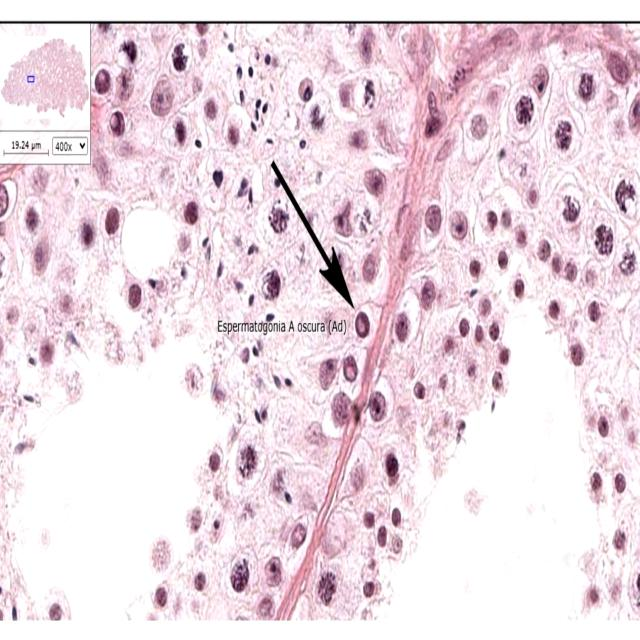Clase 1: (267, 161, 357, 307), (12, 440, 36, 455), (12, 440, 27, 456), (11, 605, 17, 620), (23, 395, 33, 402), (27, 75, 34, 83)
Clase 10: (410, 289, 603, 564), (388, 417, 471, 526), (322, 456, 373, 558), (532, 107, 587, 195), (318, 477, 369, 562), (350, 12, 434, 53), (422, 359, 482, 408), (512, 259, 581, 301), (510, 260, 580, 300), (546, 184, 585, 233), (507, 86, 540, 143), (0, 237, 19, 325), (146, 74, 180, 120), (610, 168, 640, 220), (601, 47, 636, 88), (37, 585, 72, 624), (349, 73, 383, 113), (86, 146, 117, 188), (463, 114, 490, 162), (435, 334, 457, 390), (607, 177, 640, 214), (87, 147, 115, 189), (474, 199, 504, 237), (524, 62, 555, 98), (436, 339, 457, 392), (191, 40, 210, 94), (30, 235, 53, 277), (149, 537, 173, 573), (228, 557, 251, 593), (421, 109, 446, 141), (167, 41, 192, 73), (331, 391, 353, 426), (28, 164, 52, 196), (448, 210, 471, 242), (64, 369, 85, 404), (332, 203, 353, 238), (113, 70, 135, 103), (266, 205, 290, 235), (270, 467, 290, 503), (0, 179, 17, 221), (303, 420, 328, 448), (287, 521, 310, 551), (616, 248, 639, 278), (36, 337, 58, 368), (553, 120, 575, 151), (237, 444, 257, 478), (316, 571, 336, 605), (308, 99, 328, 131), (356, 77, 376, 109), (190, 32, 214, 58), (364, 169, 386, 197), (594, 224, 613, 256), (318, 358, 337, 390), (618, 403, 634, 441), (185, 364, 203, 397), (360, 253, 379, 284), (264, 556, 283, 587), (561, 195, 582, 223), (419, 276, 436, 310), (23, 204, 42, 234), (424, 204, 443, 234), (262, 269, 281, 299), (208, 513, 227, 542), (369, 390, 386, 422), (92, 68, 112, 95), (577, 72, 595, 102), (208, 514, 227, 542), (349, 463, 366, 493), (104, 206, 121, 236), (347, 128, 369, 151), (628, 92, 640, 134), (516, 96, 533, 125), (108, 109, 126, 136), (3, 303, 23, 327), (354, 310, 371, 338), (470, 113, 488, 139), (126, 282, 143, 309), (535, 238, 553, 263), (569, 341, 586, 367), (175, 231, 194, 254), (257, 595, 275, 619), (187, 507, 204, 532), (80, 220, 95, 248), (343, 354, 358, 382), (477, 294, 494, 318), (152, 585, 169, 609), (225, 122, 241, 147), (173, 118, 187, 146), (120, 40, 137, 63), (298, 77, 313, 102), (339, 82, 353, 108), (183, 201, 198, 225), (385, 453, 399, 478), (203, 98, 218, 120), (375, 524, 389, 547), (59, 293, 74, 314), (174, 119, 186, 145), (487, 320, 501, 342), (587, 300, 601, 322), (612, 529, 626, 551), (485, 209, 498, 232), (515, 225, 528, 248), (613, 472, 627, 493), (193, 570, 207, 591), (496, 249, 510, 270), (586, 585, 600, 605), (390, 535, 404, 555), (551, 254, 564, 275), (458, 317, 471, 338), (208, 451, 221, 472), (526, 186, 539, 207), (48, 603, 63, 621), (442, 336, 456, 355), (469, 258, 481, 279), (590, 471, 602, 492), (39, 528, 51, 549), (491, 371, 503, 391), (500, 209, 512, 228), (548, 299, 560, 318), (212, 169, 223, 188), (598, 416, 608, 436), (474, 324, 484, 344), (363, 511, 374, 529), (499, 347, 510, 365), (363, 581, 375, 597), (97, 23, 112, 35), (494, 258, 502, 271), (0, 338, 4, 357)
Clase 7: (147, 198, 403, 621), (215, 253, 299, 419), (383, 5, 479, 127), (410, 325, 503, 415), (0, 530, 72, 620), (200, 372, 271, 432), (165, 18, 236, 72), (347, 180, 415, 235), (403, 137, 451, 213), (346, 13, 435, 53), (205, 378, 272, 425), (418, 60, 467, 124), (411, 360, 480, 400), (10, 356, 36, 455), (335, 204, 375, 268), (17, 586, 72, 625), (308, 80, 359, 118), (512, 271, 577, 299), (466, 124, 507, 166), (63, 332, 86, 404), (85, 145, 117, 189), (601, 47, 635, 88), (482, 23, 522, 57), (148, 74, 177, 119), (298, 419, 333, 454), (229, 39, 273, 65), (609, 178, 640, 214), (313, 568, 341, 607), (438, 335, 456, 390), (526, 62, 553, 98), (4, 281, 25, 327), (235, 443, 260, 480), (193, 37, 209, 93), (26, 164, 53, 197), (315, 356, 339, 391), (104, 323, 125, 363), (183, 362, 206, 398), (447, 209, 472, 242), (149, 537, 172, 572), (229, 557, 251, 593), (482, 208, 512, 234), (433, 134, 458, 165), (113, 69, 135, 103), (118, 37, 144, 65), (260, 268, 282, 301), (267, 204, 291, 234), (0, 180, 17, 222), (552, 119, 574, 151), (32, 237, 50, 276), (332, 391, 352, 426), (372, 115, 402, 138), (364, 168, 386, 198), (348, 461, 367, 494), (358, 73, 375, 109), (358, 28, 375, 64), (594, 224, 613, 256), (368, 390, 387, 422), (482, 87, 499, 122), (423, 113, 445, 140), (264, 556, 283, 587), (577, 72, 596, 103), (561, 195, 582, 223), (515, 95, 534, 125), (172, 231, 195, 255), (103, 206, 121, 236), (361, 253, 379, 283), (420, 277, 436, 310), (583, 299, 604, 324), (23, 205, 41, 234), (38, 337, 56, 366), (628, 92, 640, 134), (617, 250, 637, 275), (425, 204, 442, 233), (568, 340, 586, 367), (309, 104, 327, 131), (182, 199, 200, 225), (470, 113, 488, 139), (424, 89, 441, 116), (547, 252, 566, 276), (201, 97, 220, 121), (535, 237, 553, 262), (94, 69, 112, 94), (362, 78, 376, 109), (257, 595, 275, 619), (172, 43, 188, 70), (348, 129, 368, 150), (80, 220, 95, 248), (343, 354, 358, 382), (424, 90, 440, 116), (109, 110, 125, 136), (548, 252, 565, 276), (271, 468, 286, 495), (384, 452, 399, 479), (225, 124, 242, 147), (355, 311, 370, 337), (291, 522, 306, 548), (196, 31, 210, 58), (58, 293, 75, 315), (585, 585, 602, 606), (127, 283, 141, 308), (188, 507, 202, 532), (236, 176, 251, 199), (153, 585, 168, 608), (174, 119, 187, 145), (477, 296, 493, 317), (207, 451, 222, 473), (514, 225, 528, 248), (468, 257, 482, 280), (613, 472, 628, 493), (589, 471, 603, 493), (612, 529, 626, 551), (24, 23, 47, 36), (485, 209, 498, 232), (515, 225, 528, 248), (609, 578, 622, 601), (375, 524, 388, 547), (0, 183, 9, 216), (0, 255, 14, 276), (564, 260, 577, 282), (496, 249, 509, 271), (48, 602, 63, 621), (413, 380, 427, 400), (211, 169, 225, 189), (455, 419, 466, 444), (458, 317, 471, 338), (526, 186, 539, 207), (390, 534, 403, 555), (442, 335, 456, 354), (515, 225, 527, 247), (194, 571, 207, 591), (0, 605, 17, 620), (488, 321, 500, 342), (437, 372, 449, 392), (548, 299, 560, 319), (491, 371, 503, 391), (466, 360, 477, 381), (39, 528, 50, 549), (500, 209, 512, 228), (598, 416, 609, 436), (363, 511, 375, 529), (499, 347, 510, 365), (239, 346, 250, 364), (363, 581, 375, 597), (391, 507, 401, 526), (467, 362, 477, 380), (97, 23, 112, 35), (0, 343, 10, 360), (474, 325, 484, 342), (146, 611, 159, 621), (28, 75, 34, 82)
Clase 8: (545, 120, 606, 249), (522, 122, 584, 243), (159, 229, 247, 313), (460, 86, 518, 211), (598, 275, 640, 446), (331, 195, 412, 265), (497, 110, 541, 212), (189, 491, 253, 555), (203, 374, 273, 427), (447, 49, 508, 109), (204, 374, 274, 424), (501, 148, 544, 224), (595, 177, 640, 247), (498, 148, 541, 221), (332, 68, 387, 122), (335, 203, 377, 270), (548, 204, 586, 278), (483, 68, 511, 158), (611, 405, 639, 492), (452, 361, 478, 444), (57, 332, 86, 403), (302, 73, 357, 109), (318, 510, 356, 562), (226, 128, 251, 198), (192, 39, 208, 147), (83, 145, 119, 189), (392, 203, 418, 262), (601, 47, 636, 88), (513, 276, 575, 299), (467, 111, 492, 164), (554, 184, 584, 228), (607, 177, 640, 214), (299, 419, 332, 456), (149, 75, 176, 118), (299, 419, 332, 454), (483, 24, 521, 54), (582, 581, 622, 609), (433, 129, 462, 167), (313, 568, 341, 607), (40, 586, 71, 621), (615, 402, 640, 445), (226, 558, 254, 593), (192, 37, 209, 93), (26, 163, 53, 197), (427, 82, 447, 126), (149, 537, 173, 572), (167, 41, 192, 74), (117, 36, 145, 65), (31, 236, 51, 276), (236, 443, 258, 479), (332, 202, 354, 238), (286, 520, 311, 551), (528, 63, 550, 98), (466, 111, 491, 141), (615, 248, 640, 278), (358, 252, 381, 284), (593, 223, 614, 256), (331, 392, 352, 425), (114, 70, 135, 103), (123, 281, 146, 311), (358, 27, 376, 64), (206, 514, 228, 544), (520, 178, 541, 209), (566, 340, 589, 368), (91, 67, 114, 95), (263, 556, 283, 588), (364, 169, 386, 198), (423, 112, 445, 141), (560, 195, 582, 224), (268, 204, 289, 234), (577, 70, 596, 103), (514, 95, 534, 126), (261, 269, 281, 300), (393, 311, 412, 343), (185, 364, 203, 397), (107, 109, 127, 138), (37, 337, 57, 366), (319, 358, 337, 390), (424, 204, 443, 234), (348, 462, 366, 493), (368, 390, 386, 421), (269, 467, 288, 496), (308, 103, 327, 132), (579, 263, 601, 288), (554, 120, 572, 150), (450, 211, 468, 240), (420, 277, 436, 309), (628, 92, 640, 134), (186, 507, 205, 533), (104, 206, 120, 235), (24, 204, 40, 233), (424, 90, 441, 117), (201, 96, 219, 121), (348, 129, 368, 151), (3, 303, 22, 326), (257, 595, 275, 619), (80, 220, 95, 248), (384, 452, 399, 480), (343, 354, 358, 382), (629, 567, 640, 605), (584, 584, 602, 607), (175, 231, 193, 254), (173, 118, 187, 146), (486, 319, 503, 342), (611, 528, 628, 551), (363, 78, 376, 108), (355, 311, 370, 337), (183, 200, 199, 224), (0, 336, 16, 360), (424, 38, 436, 70), (476, 297, 494, 318), (298, 77, 313, 102), (536, 238, 551, 262), (58, 293, 74, 315), (207, 451, 223, 473), (608, 578, 622, 603), (587, 300, 602, 323), (153, 585, 168, 608), (383, 20, 400, 39), (514, 225, 528, 248), (0, 183, 9, 217), (526, 185, 539, 208), (485, 209, 498, 232), (466, 57, 483, 74), (597, 415, 610, 437), (375, 525, 388, 547), (564, 259, 577, 281), (193, 571, 207, 591), (211, 169, 225, 189), (551, 254, 564, 275), (630, 569, 640, 596), (48, 603, 63, 621), (469, 258, 481, 280), (547, 299, 560, 319), (458, 317, 470, 338), (614, 472, 626, 493), (500, 208, 512, 229), (391, 534, 403, 555), (590, 472, 602, 492), (456, 419, 466, 443), (443, 335, 455, 355), (492, 371, 504, 391), (238, 346, 251, 364), (413, 381, 426, 399), (465, 362, 478, 380), (497, 249, 508, 269), (363, 511, 375, 529), (499, 347, 510, 365), (363, 581, 375, 597), (391, 507, 401, 526), (474, 325, 484, 343), (438, 373, 448, 391), (97, 23, 112, 35), (145, 610, 161, 621), (196, 23, 209, 36), (97, 23, 111, 35), (0, 337, 4, 359)
Clase 9: (599, 48, 636, 88), (513, 276, 575, 298), (148, 75, 177, 119), (607, 177, 640, 214), (313, 355, 341, 391), (354, 25, 379, 65), (315, 569, 339, 606), (419, 111, 447, 142), (388, 201, 414, 234), (330, 390, 353, 427), (261, 555, 286, 588), (332, 202, 354, 238), (466, 111, 492, 141), (552, 119, 575, 152), (615, 248, 640, 278), (118, 37, 144, 65), (286, 521, 310, 551), (529, 63, 550, 97), (236, 445, 258, 477), (364, 168, 387, 198), (513, 95, 535, 126), (267, 205, 290, 234), (32, 238, 50, 275), (230, 558, 249, 593), (594, 223, 614, 256), (392, 311, 412, 343), (115, 70, 135, 102), (262, 269, 281, 300), (381, 451, 402, 479), (561, 195, 582, 223), (424, 204, 443, 234), (420, 277, 436, 310), (353, 311, 372, 338), (369, 391, 386, 421), (347, 128, 369, 151), (628, 92, 640, 134), (450, 212, 468, 240), (361, 253, 378, 282), (578, 72, 595, 101), (108, 110, 126, 137), (256, 595, 276, 619), (79, 220, 96, 248), (104, 207, 120, 235), (152, 585, 170, 609), (343, 354, 358, 382), (585, 300, 603, 323), (127, 282, 142, 309), (569, 341, 585, 366), (203, 97, 219, 121), (338, 82, 353, 107), (183, 201, 199, 224), (298, 77, 313, 101), (425, 90, 439, 115), (536, 239, 551, 262), (174, 119, 187, 145), (546, 299, 562, 320), (477, 296, 493, 317), (485, 209, 499, 231), (208, 451, 222, 473), (375, 525, 389, 547), (48, 602, 64, 621), (0, 183, 9, 216), (193, 570, 207, 591), (612, 529, 626, 550), (564, 260, 577, 282), (515, 225, 528, 247), (457, 317, 471, 337), (590, 472, 603, 492), (551, 254, 564, 274), (614, 472, 626, 493), (469, 258, 481, 279), (500, 208, 512, 228), (413, 381, 426, 399), (597, 416, 608, 437), (363, 511, 375, 528), (363, 581, 375, 597), (474, 325, 484, 343), (392, 507, 401, 526)
